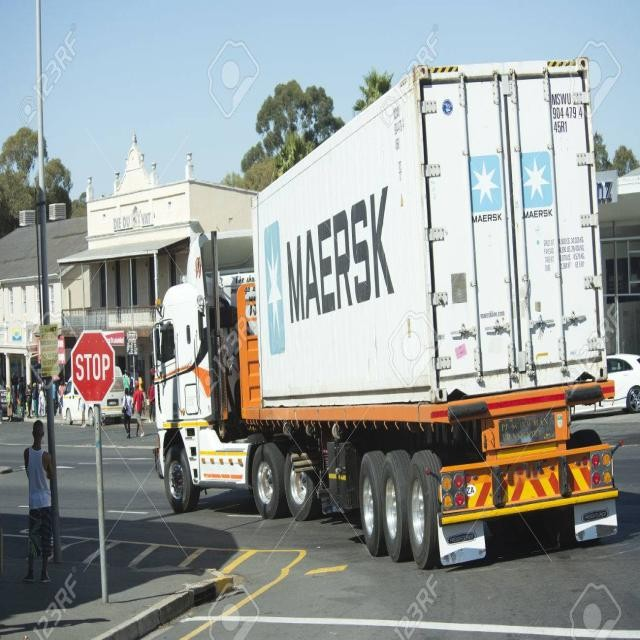truck: (149, 54, 616, 562)
